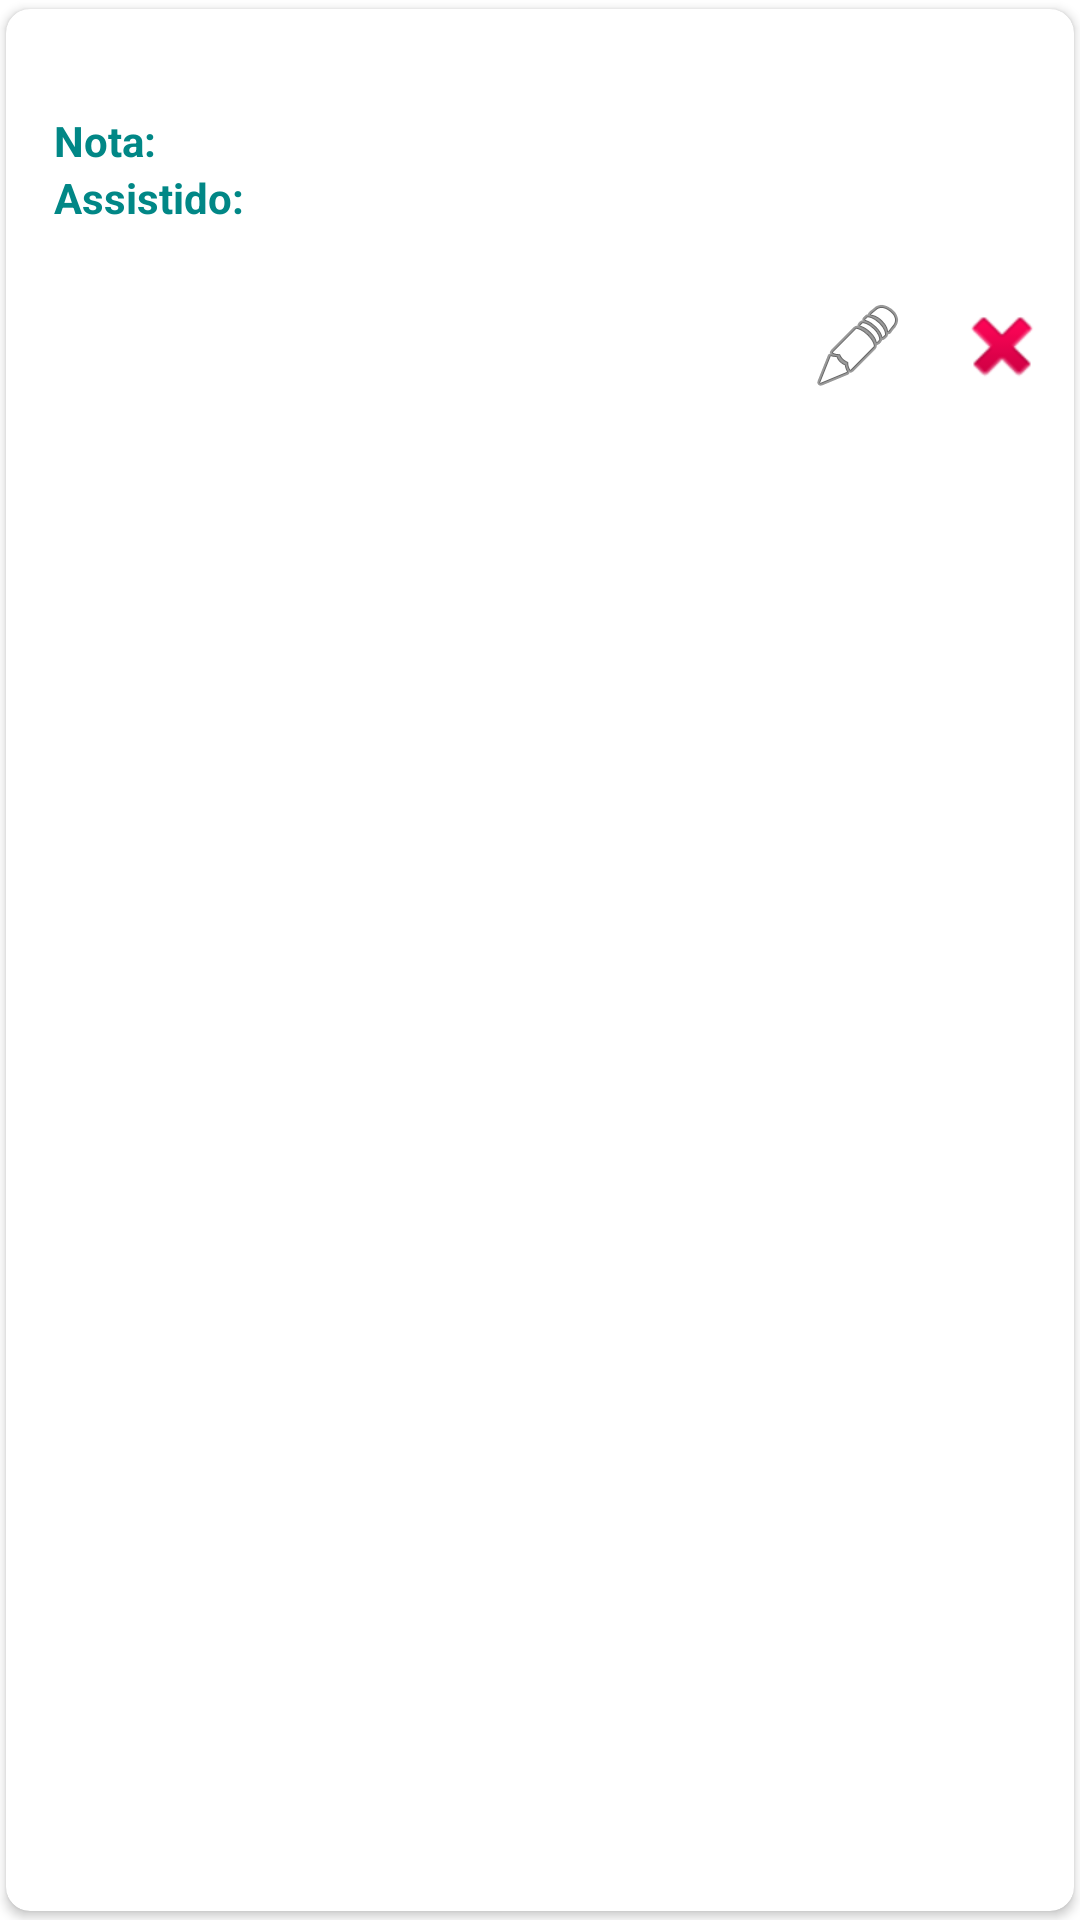

Icons on this 1080×1920 Android screen, each with its box as bbox=(x1, y1, x2, y2):
Editar: bbox=(817, 305, 898, 386)
Excluir: bbox=(971, 317, 1033, 376)
